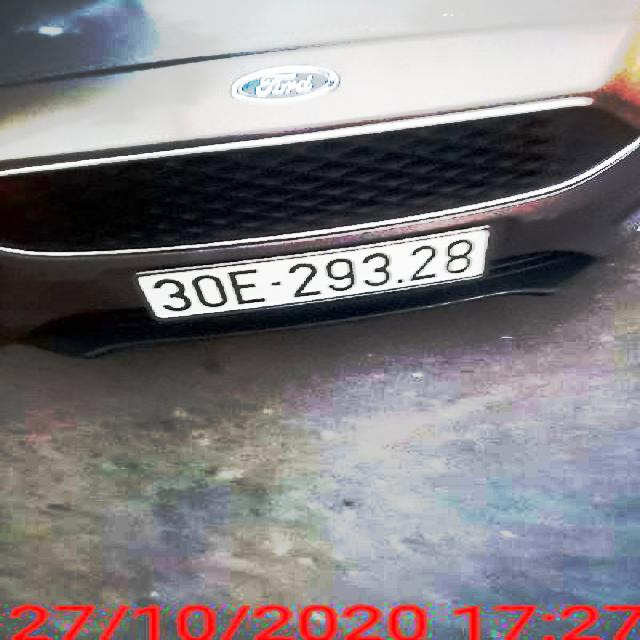license_plate: (137, 229, 490, 319)
